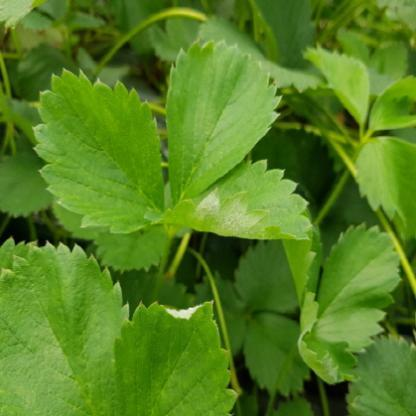Strawberry_Powdery_Mildew_Leaf: (142, 148, 314, 242), (113, 299, 239, 415), (297, 291, 363, 385)
